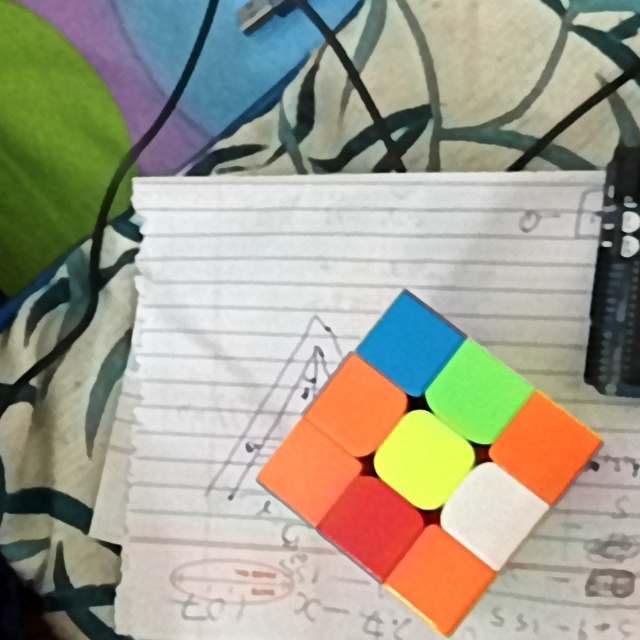tile: (463, 482, 522, 541), (448, 366, 505, 425), (516, 422, 578, 475), (396, 435, 455, 490), (330, 380, 388, 435), (415, 549, 468, 607), (347, 498, 403, 552), (379, 319, 437, 370), (281, 447, 338, 497)
